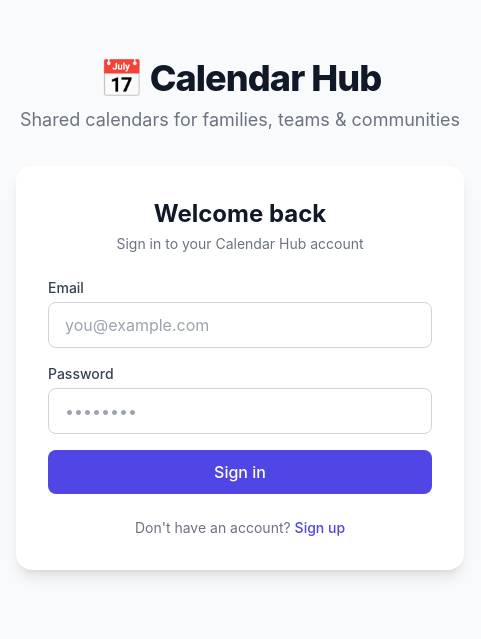
Test: LandingPage › toggle between login and register
Expected: the heading "Welcome back" is shown, [154,199,326,228]
// Click "Sign up" link to toggle to register
Click the button "Sign up".
click(320, 528)  # box [295,518,345,538]
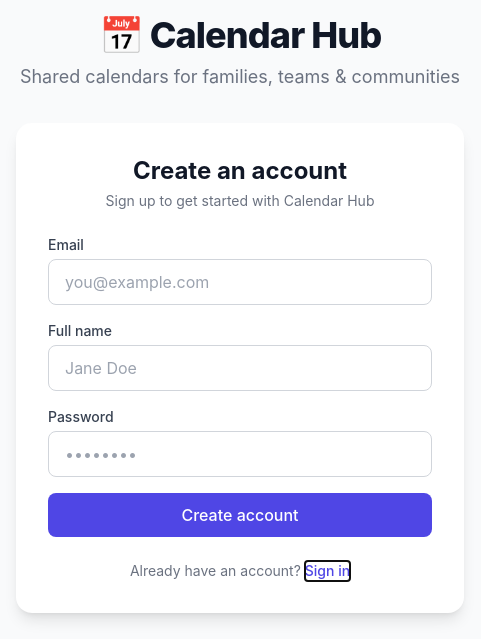
Expected: the heading "Create an account" is shown, [133,156,347,185]
Expected: the field labelled "Full name" is shown, [48,345,432,391]
// Toggle back to login
Click the button "Sign in".
click(328, 571)  # box [305,561,350,581]
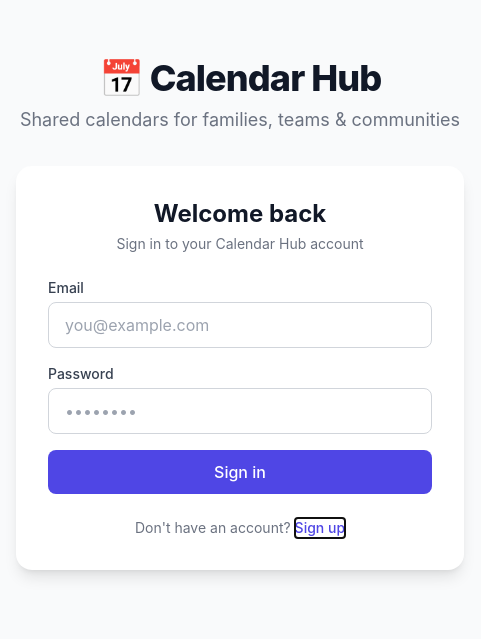
Expected: the heading "Welcome back" is shown, [154,199,326,228]
